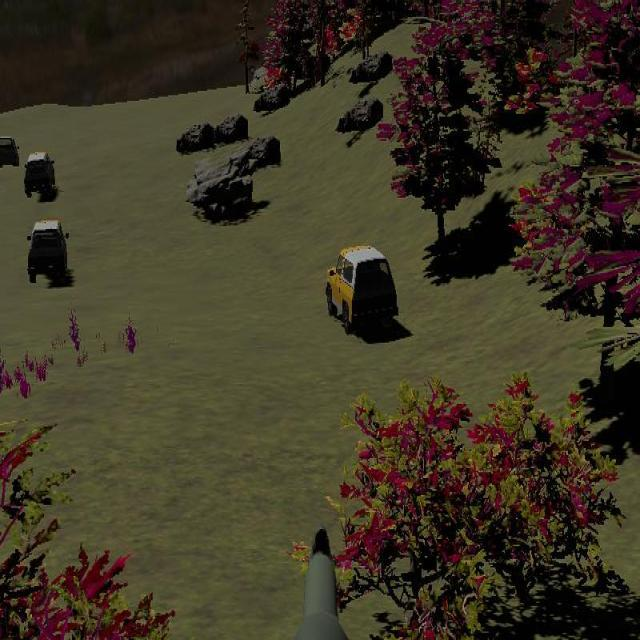Tank: (598, 310, 640, 415)
car: (325, 244, 398, 336), (26, 218, 69, 283), (25, 151, 56, 197), (0, 135, 19, 171)
